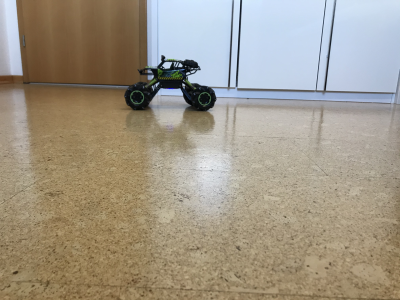remote control car: (120, 52, 218, 113)
